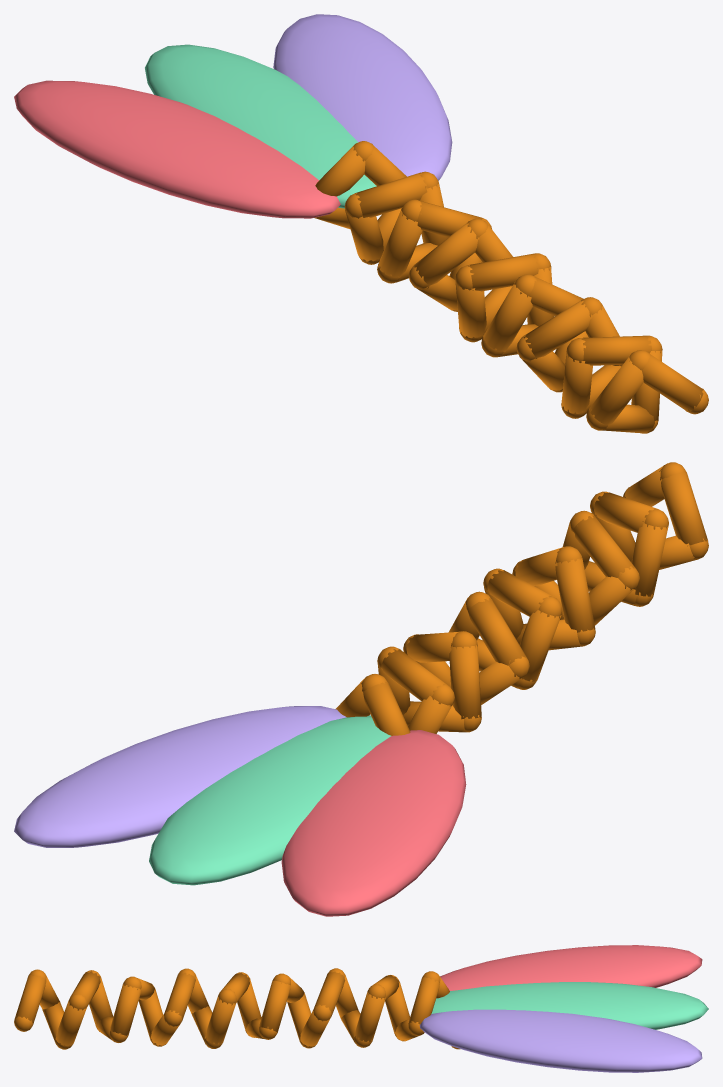
File: FeatherToyMoving_Premium.fbx
The picture shows the model from 3 angles, top to bottom: view 1: azimuth 30°, elevation 25°; view 2: azimuth 150°, elevation 25°; view 3: azimuth 270°, elevation 25°; orthographic projection. The views are drawn at different scales.
Parts seen in each view (by area): view 1: FeatherToy_Moving; view 2: FeatherToy_Moving; view 3: FeatherToy_Moving.
Part boxes in pixels (x1=…): FeatherToy_Moving: x1=14, y1=14, x2=708, y2=433; FeatherToy_Moving: x1=14, y1=462, x2=708, y2=916; FeatherToy_Moving: x1=14, y1=945, x2=708, y2=1072.
Bounding box in the file's own units: 0.2296 × 0.066 × 0.563.
